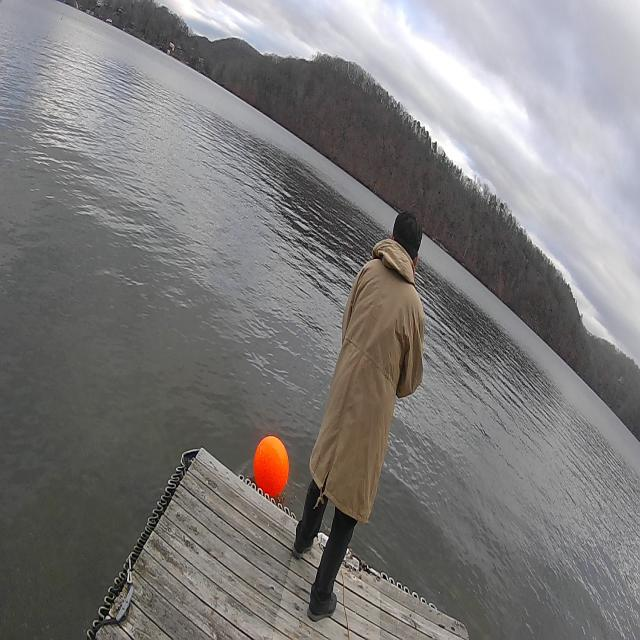Buoy: (252, 431, 289, 499)
